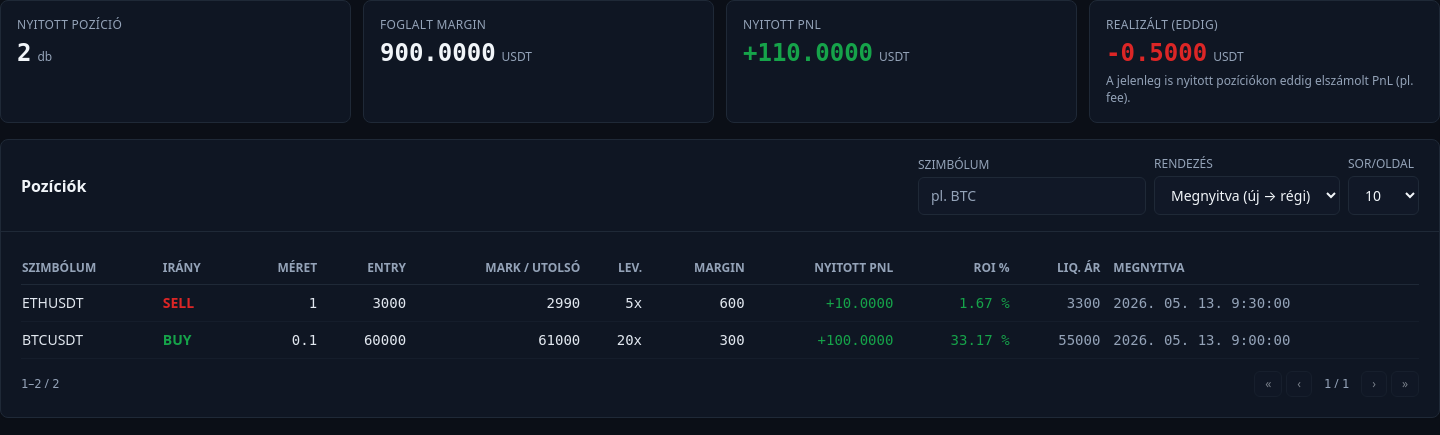
Test: <PositionsTable /> › filters by symbol search
Check: the text "BTCUSDT" is shown, box [21,322,162,358]
Type "ETH" into the field labelled "Szimbólum" at x=1032, y=196, box [918,177,1146,215]
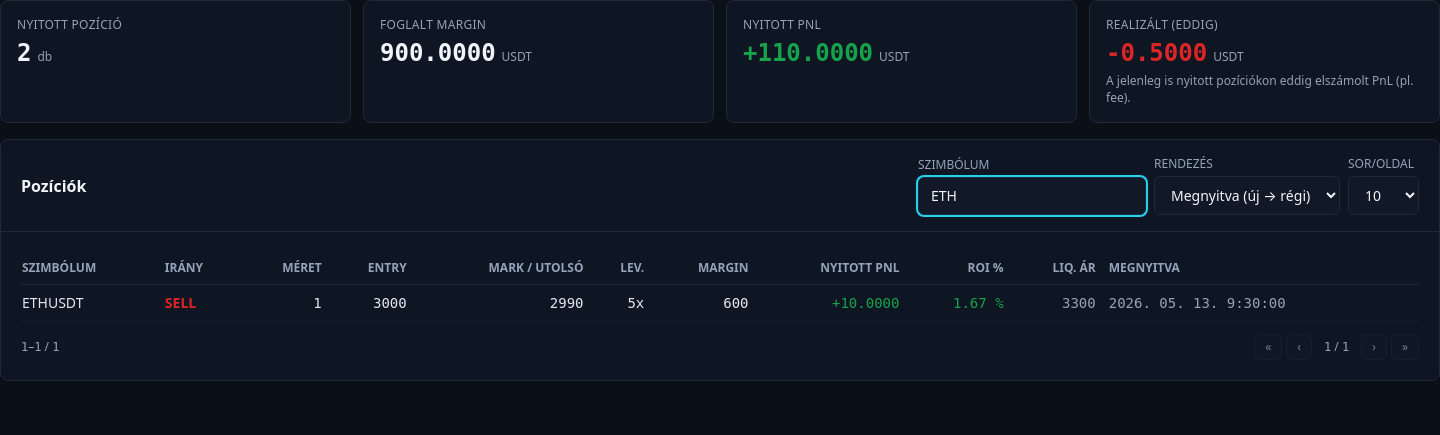
Check: the text "ETHUSDT" is shown, box [21,284,164,322]
Check: the text "BTCUSDT" is gone
